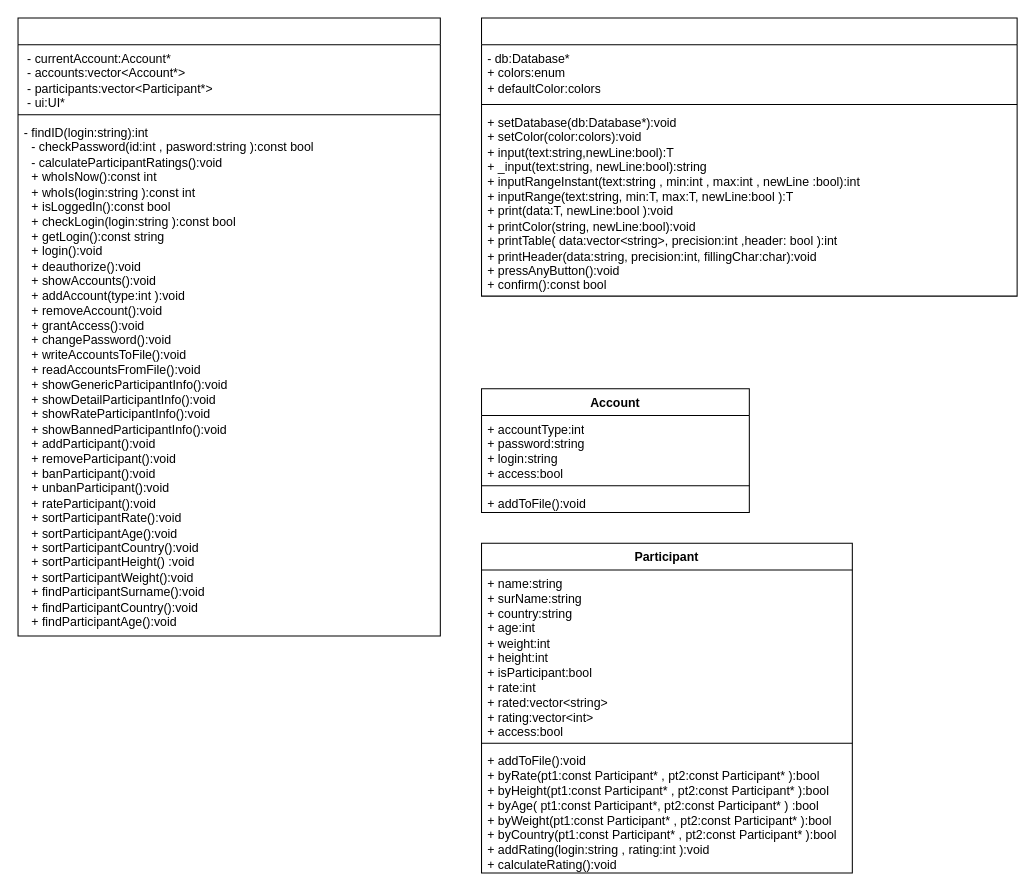
Image size: 1035x894. Some labels were removed from this diagram. Each missing label, with the box of its shape:
Database: (17, 17, 440, 636)
UI: (480, 17, 1017, 296)
